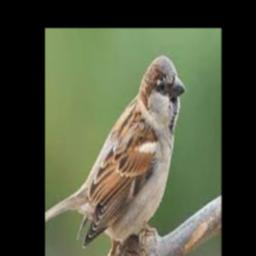Sparrow: (45, 55, 186, 249)
